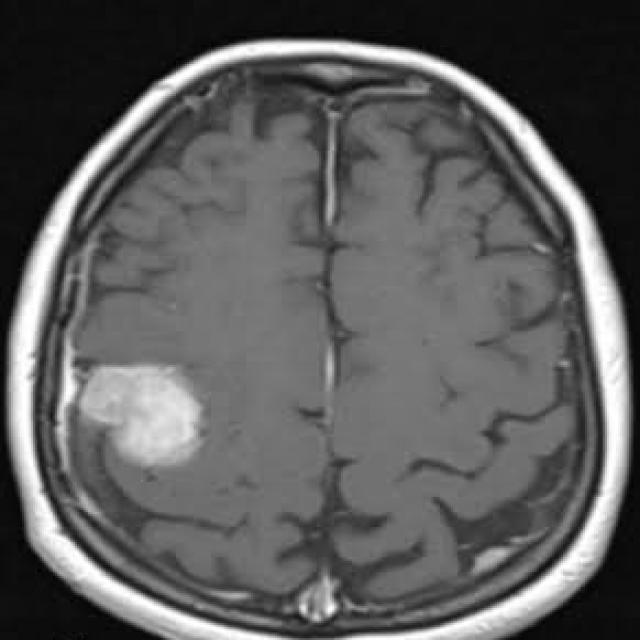brain_tumor: (80, 365, 203, 467)
